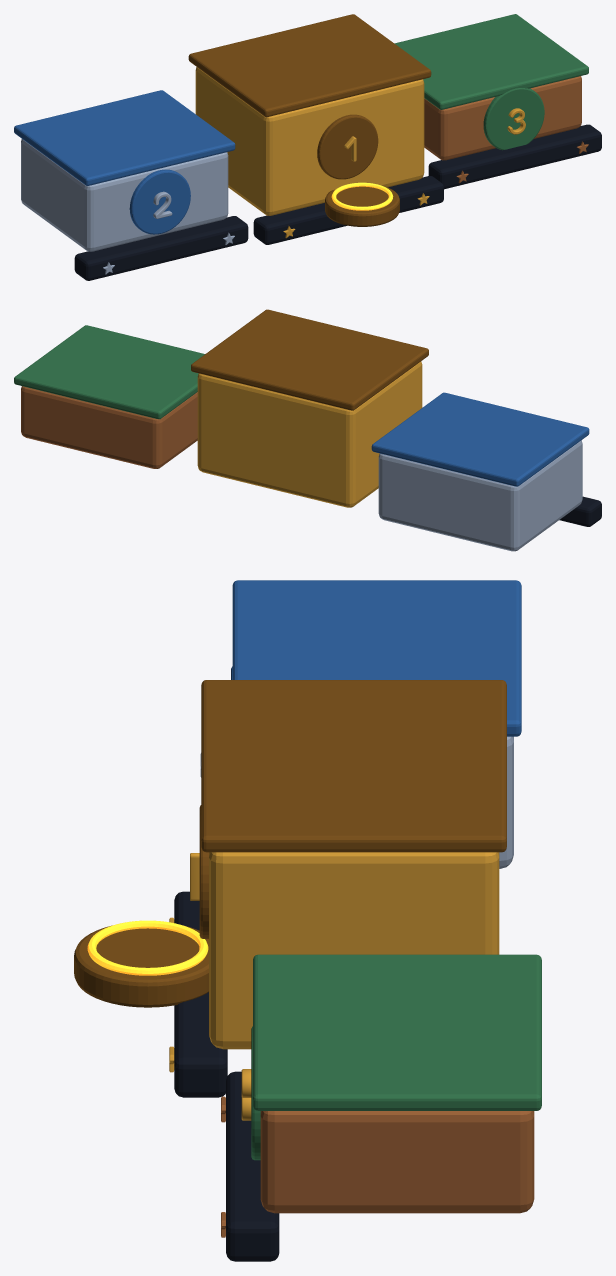
Rendered from wc_podiums_blockout.glb.
The picture shows the model from 3 angles, top to bottom: view 1: azimuth 30°, elevation 25°; view 2: azimuth 150°, elevation 25°; view 3: azimuth 270°, elevation 25°; orthographic projection. The views are drawn at different scales.
Parts seen in each view (by area): view 1: PodiumFirst, PodiumFirstTop, PodiumSecondTop, PodiumSecond, PodiumThirdTop, PodiumThird, PodiumSecondNameplate, PodiumThirdNameplate, PodiumFirstNameplate, PodiumFirstMedallion, PodiumSecondMedallion, PodiumThirdMedallion (+2 smaller); view 2: PodiumFirst, PodiumFirstTop, PodiumSecond, PodiumSecondTop, PodiumThirdTop, PodiumThird, PodiumSecondNameplate; view 3: PodiumFirstTop, PodiumThirdTop, PodiumFirst, PodiumSecondTop, PodiumThird, TrophyLandingPlinth, PodiumThirdNameplate, PodiumFirstNameplate, TrophyLandingGlow, PodiumSecond, PodiumFirstMedallion.
Boxes of the visible parts, x1,y1,x2,y2 form: PodiumFirst: (195,67,424,215); PodiumFirstTop: (188,14,431,117); PodiumSecondTop: (14,90,235,185); PodiumSecond: (21,139,228,251); PodiumThirdTop: (394,14,588,109); PodiumThird: (424,76,581,160); PodiumSecondNameplate: (74,216,248,280); PodiumThirdNameplate: (428,124,601,189); PodiumFirstNameplate: (253,176,443,244); PodiumFirstMedallion: (317,114,378,179); PodiumSecondMedallion: (129,169,190,234); PodiumThirdMedallion: (483,88,544,150); PodiumFirst: (197,361,422,507); PodiumFirstTop: (191,309,428,410); PodiumSecond: (378,440,582,551); PodiumSecondTop: (371,392,589,486); PodiumThirdTop: (14,325,204,419); PodiumThird: (21,386,197,468); PodiumSecondNameplate: (559,496,601,526); PodiumFirstTop: (201,680,506,852); PodiumThirdTop: (253,954,541,1110); PodiumFirst: (209,852,499,1049); PodiumSecondTop: (232,580,521,736); PodiumThird: (260,1111,534,1213); TrophyLandingPlinth: (74,925,208,1007); PodiumThirdNameplate: (226,1071,279,1261); PodiumFirstNameplate: (174,891,227,1097); TrophyLandingGlow: (87,920,208,975); PodiumSecond: (499,736,513,868); PodiumFirstMedallion: (199,805,208,938).
Size of the model in its own units: 9.31 by 2.22 by 3.67.
